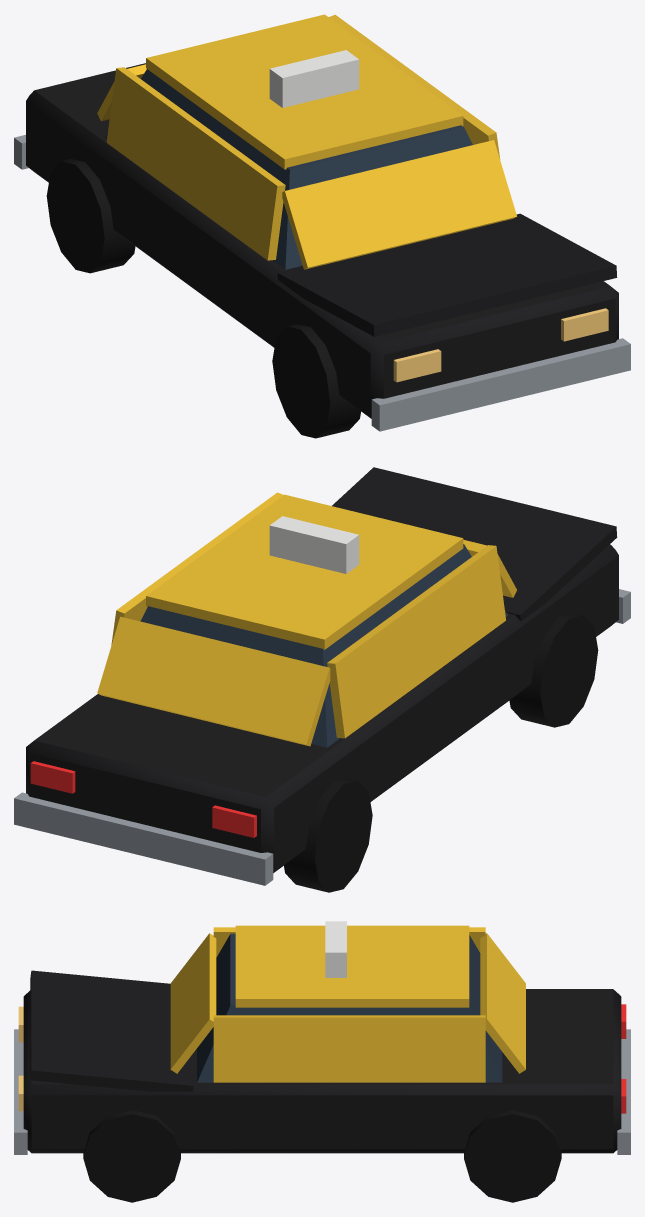
The model's file is taxi.fbx.
3 views of the same model, one above another, from view 1: azimuth 30°, elevation 25°; view 2: azimuth 150°, elevation 25°; view 3: azimuth 270°, elevation 25° (orthographic). The views are drawn at different scales.
Parts seen in each view (by area): view 1: taxi; view 2: taxi; view 3: taxi.
Part boxes in pixels (x1,y1,x2,y2): taxi: [14, 14, 630, 438]; taxi: [14, 467, 630, 892]; taxi: [14, 921, 630, 1202].
Size of the model in its own units: 1.92 by 1.71 by 4.54.
